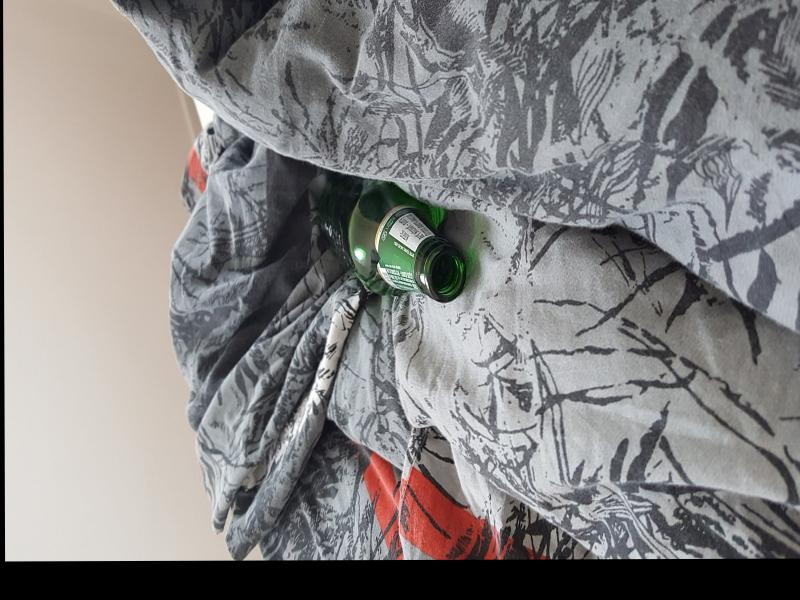Beer: (320, 182, 467, 298)
